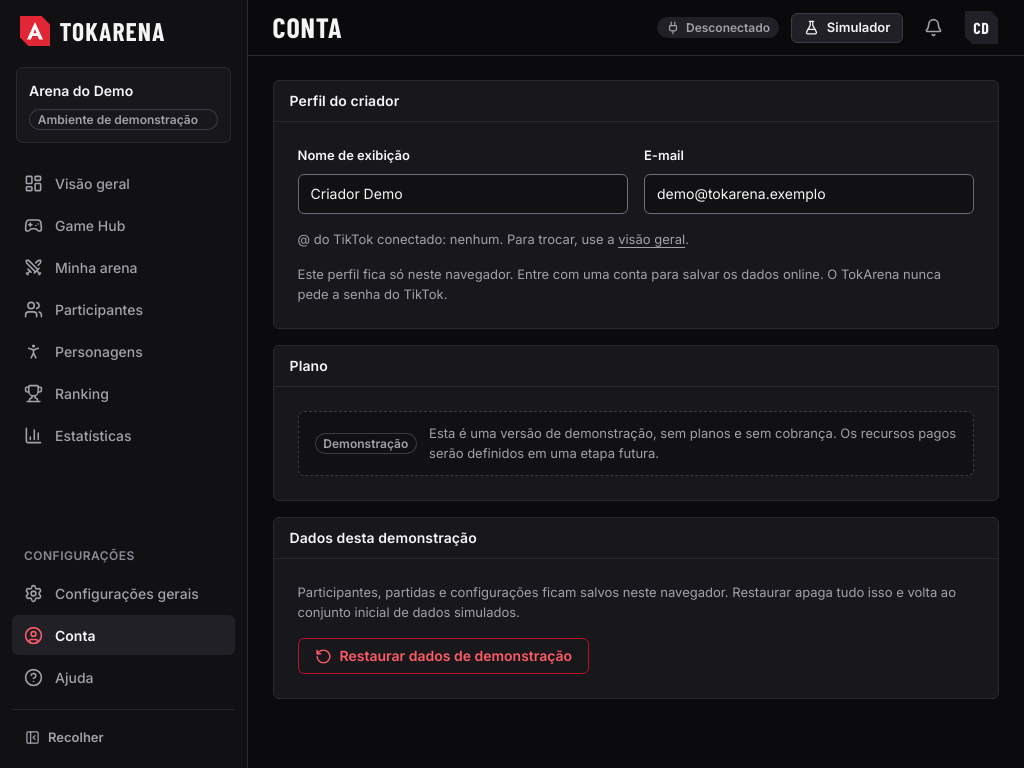
Scenario: configurações e conta › restaurar dados pede confirmação e depois avisa
The width and height of the screenshot is (1024, 768).
Click the button "Restaurar dados de demonstração".
click(443, 656)  # box [298, 638, 589, 674]
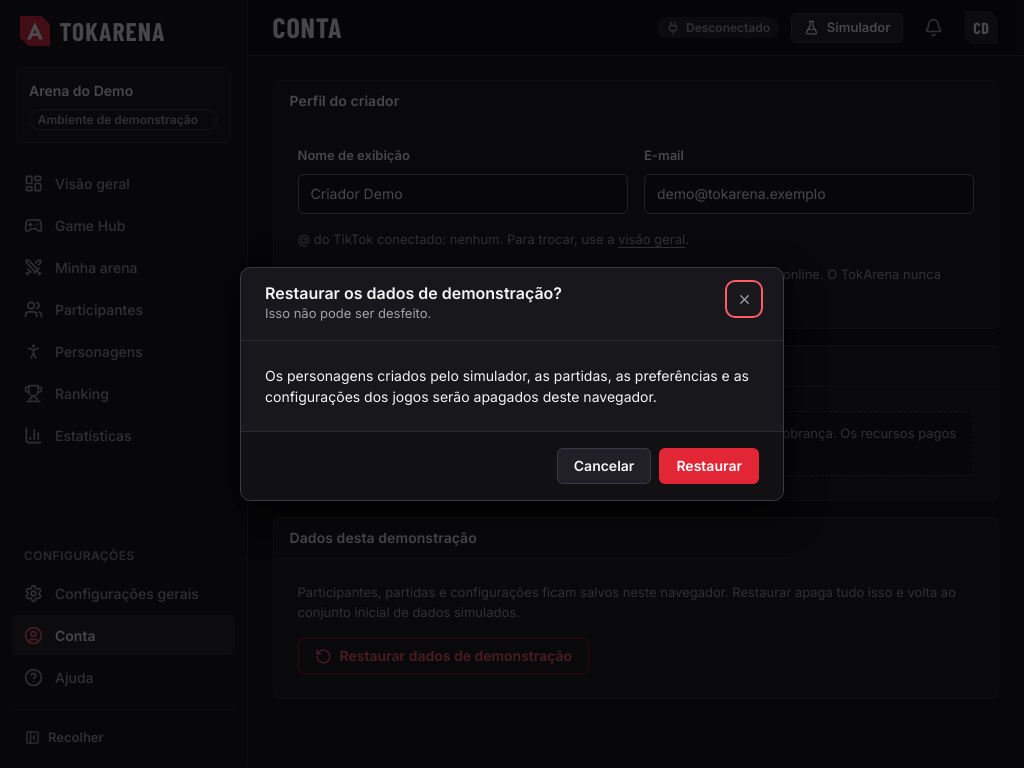
Click the button "Restaurar".
click(709, 466)  # box [659, 448, 759, 484]
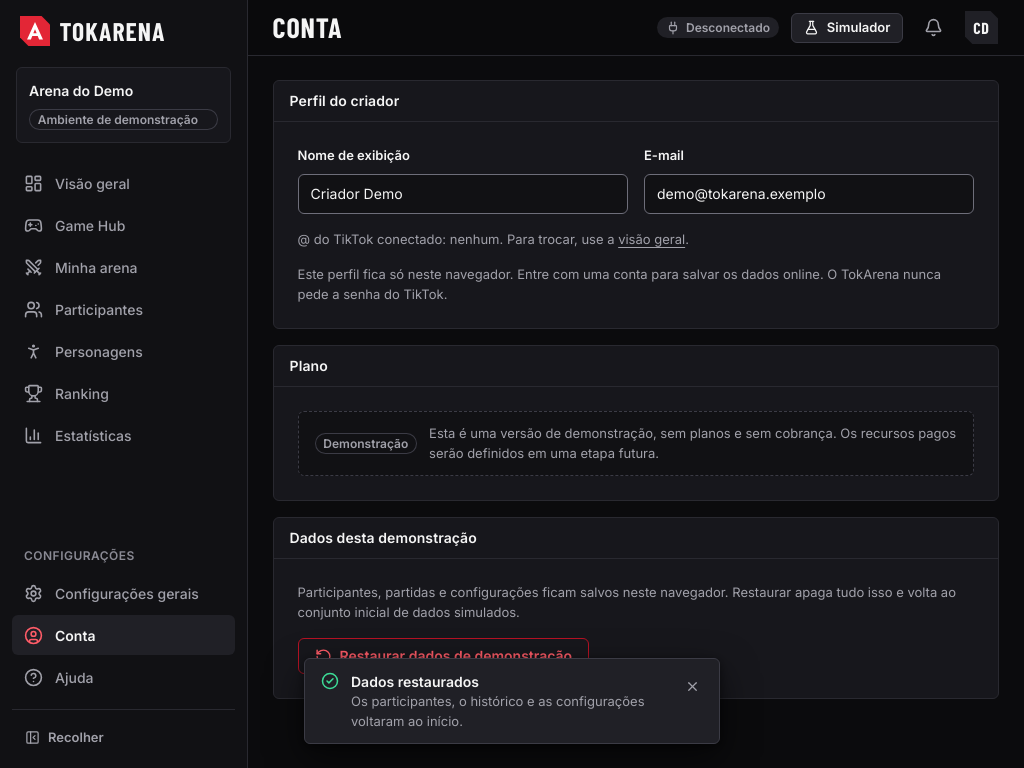
Check: the text "Dados restaurados" is shown, box [351, 673, 479, 690]
